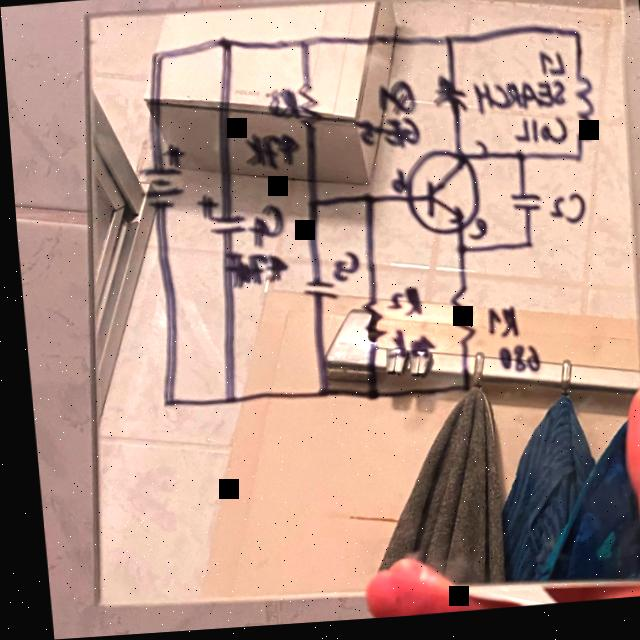capacitor: (191, 191, 245, 241), (426, 78, 469, 125), (296, 278, 334, 305), (504, 193, 539, 221)
inductor: (566, 78, 595, 149)
junction: (566, 31, 583, 49), (217, 35, 233, 52), (295, 38, 311, 54), (452, 382, 466, 399), (358, 195, 373, 210), (301, 198, 316, 213), (449, 247, 464, 261), (440, 37, 454, 52), (359, 389, 373, 404), (510, 154, 524, 169), (154, 395, 169, 409), (149, 49, 164, 63), (517, 242, 531, 256), (569, 157, 582, 171), (218, 394, 231, 407), (310, 389, 323, 401)
resistor: (442, 292, 472, 351), (354, 296, 382, 350), (293, 85, 323, 132)
source: (129, 141, 187, 221)
text: (468, 79, 565, 122), (215, 249, 286, 292), (348, 119, 420, 156), (238, 131, 298, 174), (242, 203, 284, 250), (508, 119, 566, 153), (378, 329, 430, 366), (372, 82, 415, 122), (260, 85, 297, 128), (477, 308, 516, 347), (490, 347, 534, 381), (543, 196, 584, 232), (379, 289, 418, 322), (326, 253, 357, 285), (535, 53, 564, 84), (461, 221, 484, 247), (384, 172, 402, 198), (469, 144, 487, 165)
transistor: (398, 150, 480, 243)
